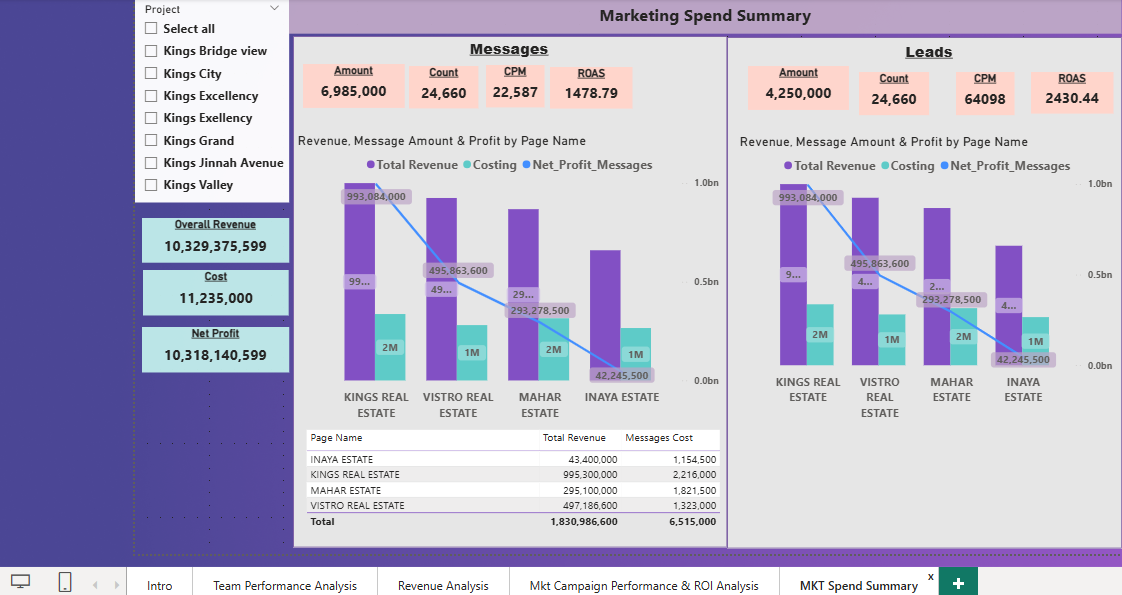

What the dashboard file says about the page in this screenshot:
{"tool":"powerbi","page":{"name":"MKT Spend Summary","canvas":[1280,720],"ordinal":4},"visuals":[{"type":"shape","box":[767.7,49.9,512.3,663.5],"z":0},{"type":"shape","box":[205.1,48.5,563.4,663.5],"z":1000},{"type":"slicer","fields":{"Values":["Report.Project "]},"box":[0,0,200.3,264.2],"z":2000},{"type":"card","title":"Amount","fields":{"Values":["Calculation.Messages_Amount"]},"box":[218.4,84.4,131.5,56.7],"z":3000},{"type":"card","title":"Count","fields":{"Values":["Calculation.Total_Messages"]},"box":[355.9,86.9,90.5,55.5],"z":4000},{"type":"card","title":"CPM","fields":{"Values":["Calculation.Total_Cost_Pr_Msg"]},"box":[454.8,85.6,76,55.5],"z":5000},{"type":"textbox","box":[202.7,44.8,565.8,43.4],"z":6000},{"type":"card","title":"ROAS","fields":{"Values":["Calculation.ROAS_Messages"]},"box":[538.1,88.1,107.4,54.3],"z":7000},{"type":"card","title":"Overall Revenue","fields":{"Values":["Calculation.Total Revenue"]},"box":[9.7,283.5,190.6,57.9],"z":8000},{"type":"textbox","box":[200.3,0,1079.8,44.6],"z":9000},{"type":"lineClusteredColumnComboChart","title":"Revenue, Message Amount & Profit by Page Name","fields":{"Category":["Report.Lead_Name"],"Y":["Calculation.Total Revenue","Calculation.Messages_Amount"],"Y2":["Calculation.Net_Profit_Messages"]},"box":[206.3,174.4,563.4,380],"z":10000},{"type":"tableEx","fields":{"Values":["Report.Lead_Name","Calculation.Total Revenue","Calculation.Messages_Amount"]},"box":[217.2,554,551.3,150.8],"z":11000},{"type":"card","title":"Net Profit","fields":{"Values":["Calculation.Overall_Net_Profit"]},"box":[9.7,425.9,190.6,59.1],"z":12000},{"type":"card","title":"Cost","fields":{"Values":["Calculation.Total_Cost_Spent"]},"box":[10.9,351.1,189.4,59.1],"z":13000},{"type":"textbox","box":[779.1,49.9,500.9,44.2],"z":14000},{"type":"card","title":"Amount","fields":{"Values":["Calculation.Leads_Amount"]},"box":[794.8,87,131.3,57.1],"z":15000},{"type":"card","title":"Count","fields":{"Values":["Calculation.Total_Messages"]},"box":[939,94.2,91.3,55.7],"z":16000},{"type":"card","title":"CPM","fields":{"Values":["Calculation.Total_Cost_Pr_Lead"]},"box":[1064.5,94.2,75.6,55.7],"z":17000},{"type":"card","title":"ROAS","fields":{"Values":["Calculation.ROAS_Leads"]},"box":[1163,94.2,107,54.2],"z":18000},{"type":"lineClusteredColumnComboChart","title":"Revenue, Message Amount & Profit by Page Name","fields":{"Category":["Report.Lead_Name"],"Y":["Calculation.Total Revenue","Calculation.Messages_Amount"],"Y2":["Calculation.Net_Profit_Messages"]},"box":[779.4,175.2,500.6,379],"z":19000}]}

Visuals, with their boxes on the page's 1280x720 design canvas (x1, y1, x2, y2). These are canvas units, not pixel positions in the 1122x595 screenshot, which may show the page scaled, cropped or inside an application window:
shape: 768 50 1280 713
shape: 205 48 768 712
slicer - Report.Project : 0 0 200 264
"Amount" card: 218 84 350 141
"Count" card: 356 87 446 142
"CPM" card: 455 86 531 141
textbox: 203 45 768 88
"ROAS" card: 538 88 646 142
"Overall Revenue" card: 10 284 200 341
textbox: 200 0 1280 45
"Revenue, Message Amount & Profit by Page Name" lineClusteredColumnComboChart: 206 174 770 554
tableEx - Report.Lead_Name x Calculation.Total Revenue: 217 554 768 705
"Net Profit" card: 10 426 200 485
"Cost" card: 11 351 200 410
textbox: 779 50 1280 94
"Amount" card: 795 87 926 144
"Count" card: 939 94 1030 150
"CPM" card: 1064 94 1140 150
"ROAS" card: 1163 94 1270 148
"Revenue, Message Amount & Profit by Page Name" lineClusteredColumnComboChart: 779 175 1280 554
